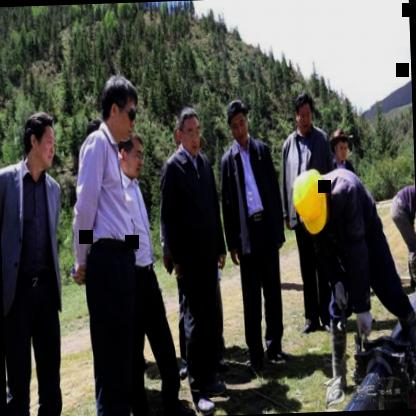helmet: (288, 164, 334, 236)
